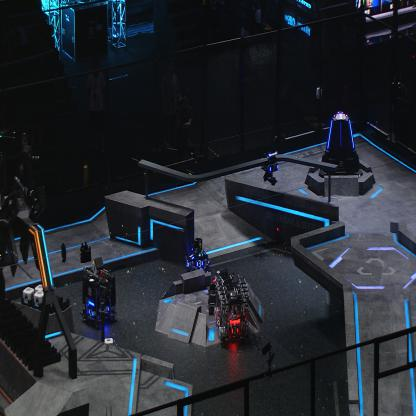car: (213, 266, 250, 345), (82, 261, 117, 328), (185, 235, 211, 277)
